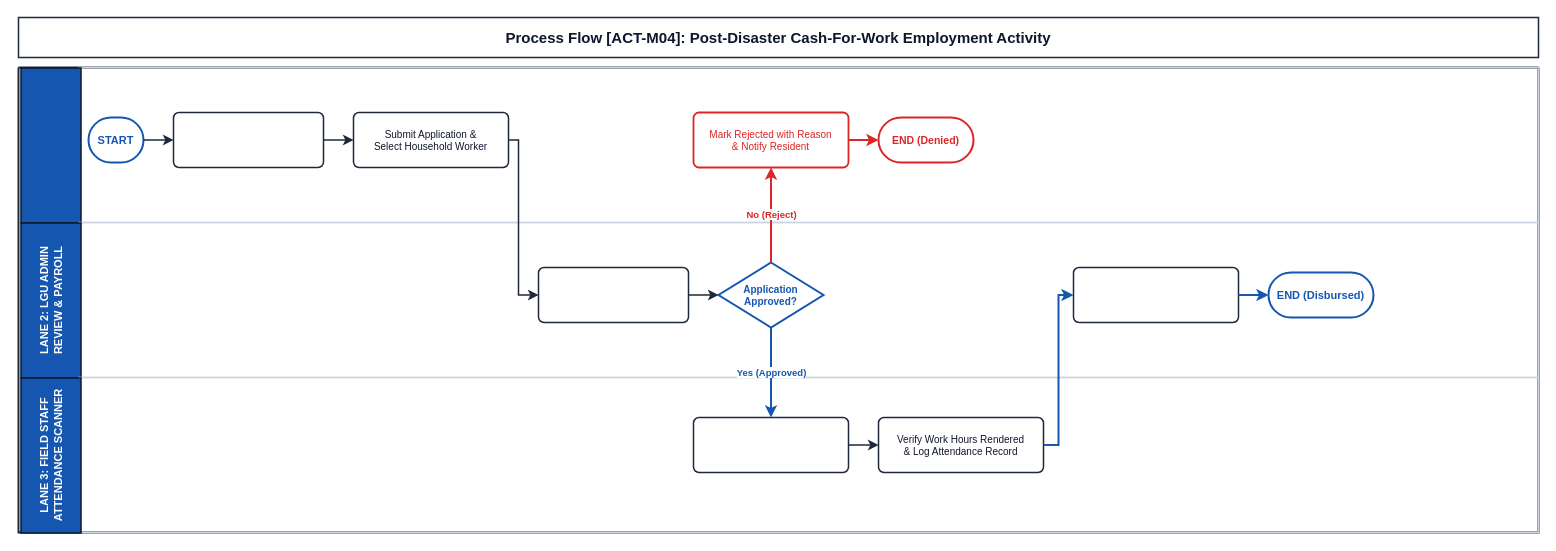
The diagram is 1556 pixels wide and 551 high, and some of its shapes have lost their labels. Each missing label, with the box of its shape:
Compute Wage Payroll & Disburse Cash Compensation: (1072, 266, 1239, 323)
LANE 1: RESIDENT BENEFICIARY: (20, 67, 81, 223)
Review Application & Eligibility Status: (537, 266, 689, 323)
Scan Beneficiary QR Pass for Daily Attendance: (692, 416, 849, 473)
Select CFW Job Category (Debris/Drain/Shelter): (172, 111, 324, 168)
